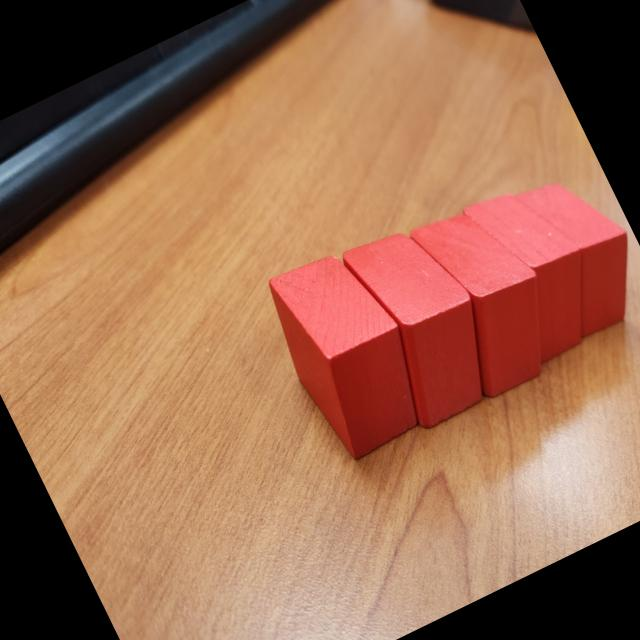red: (248, 232, 445, 470), (336, 208, 516, 432), (402, 188, 577, 403), (460, 168, 619, 368), (512, 159, 640, 338)
